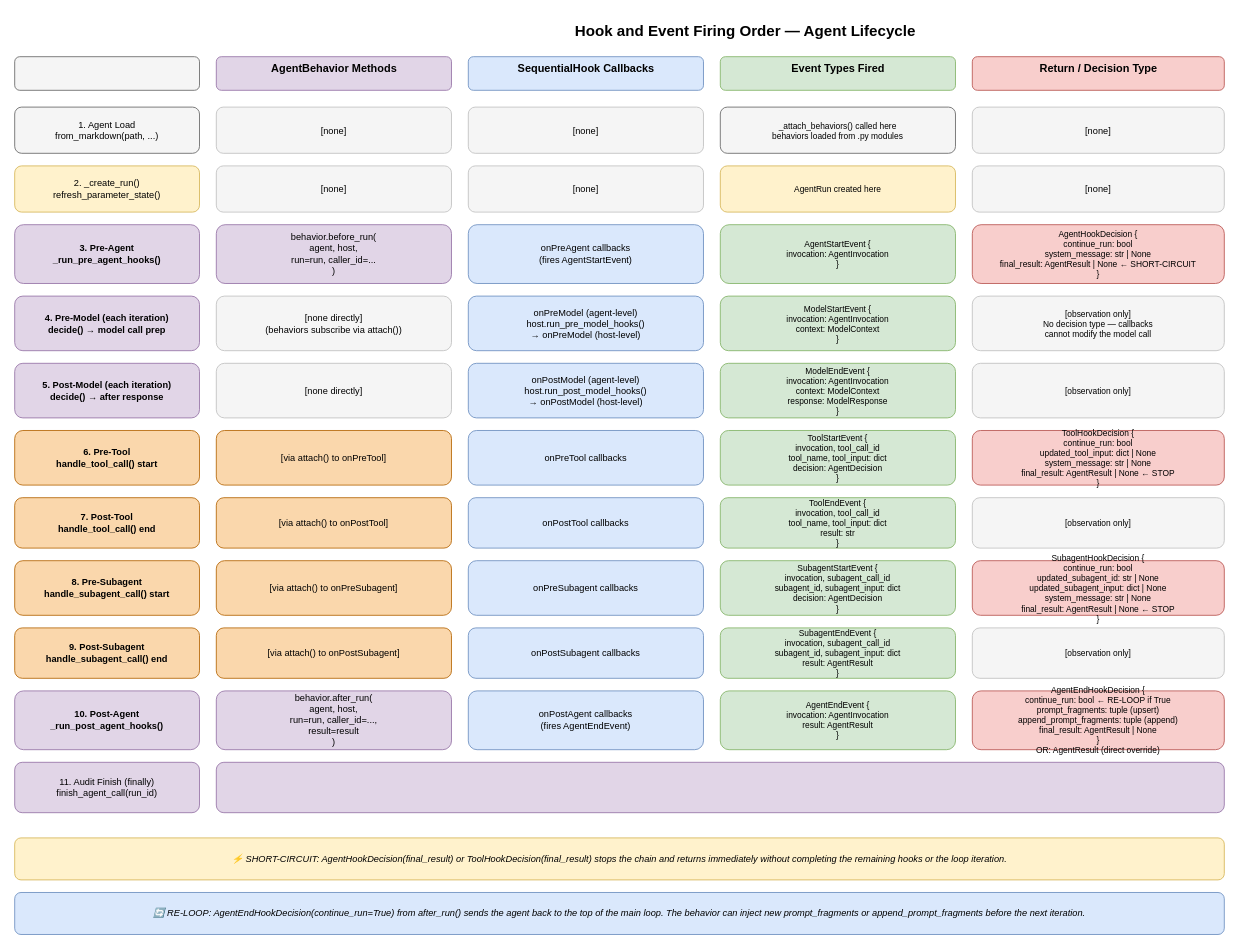
The diagram is 1239 pixels wide and 949 high, and some of its shapes have lost their labels. The shapes that lost their labels are listed below. From the top down, each one's centre as x and y in pixels, then its label:
At (x=107, y=73): "Lifecycle Phase".
At (x=719, y=787): "[none — always fires, even on exception] Appends JSONL record to trace file".
